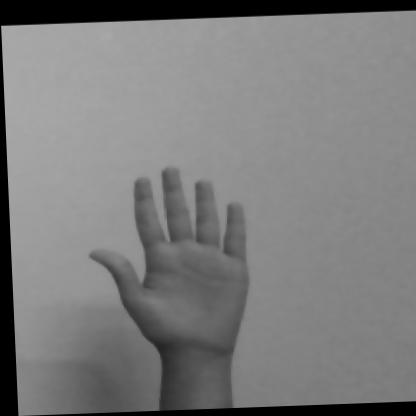palm: (67, 156, 294, 383)
